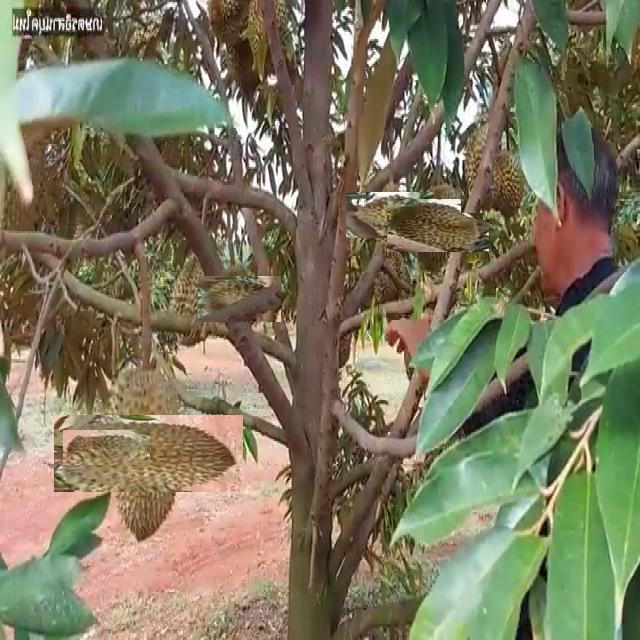durian: (82, 387, 215, 521), (156, 249, 219, 349), (398, 186, 476, 264), (356, 182, 424, 249), (208, 267, 272, 332), (461, 114, 500, 213), (75, 417, 137, 478), (483, 145, 526, 220)
